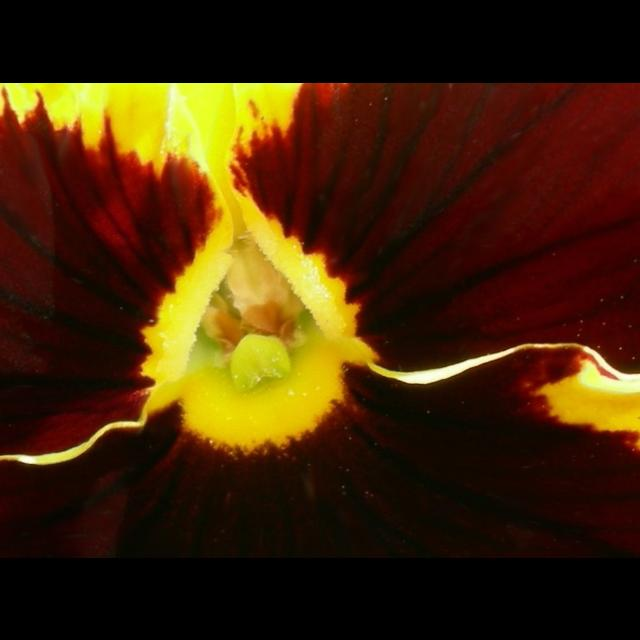Flower: (12, 82, 592, 492)
